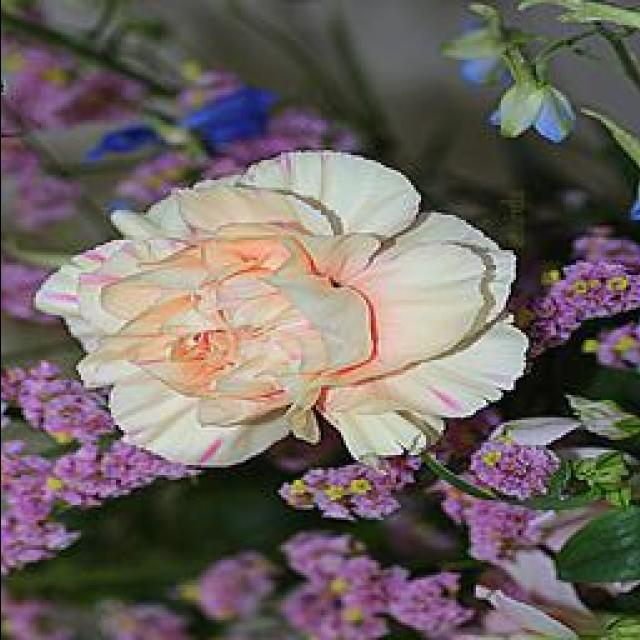carnation: (32, 161, 516, 479)
